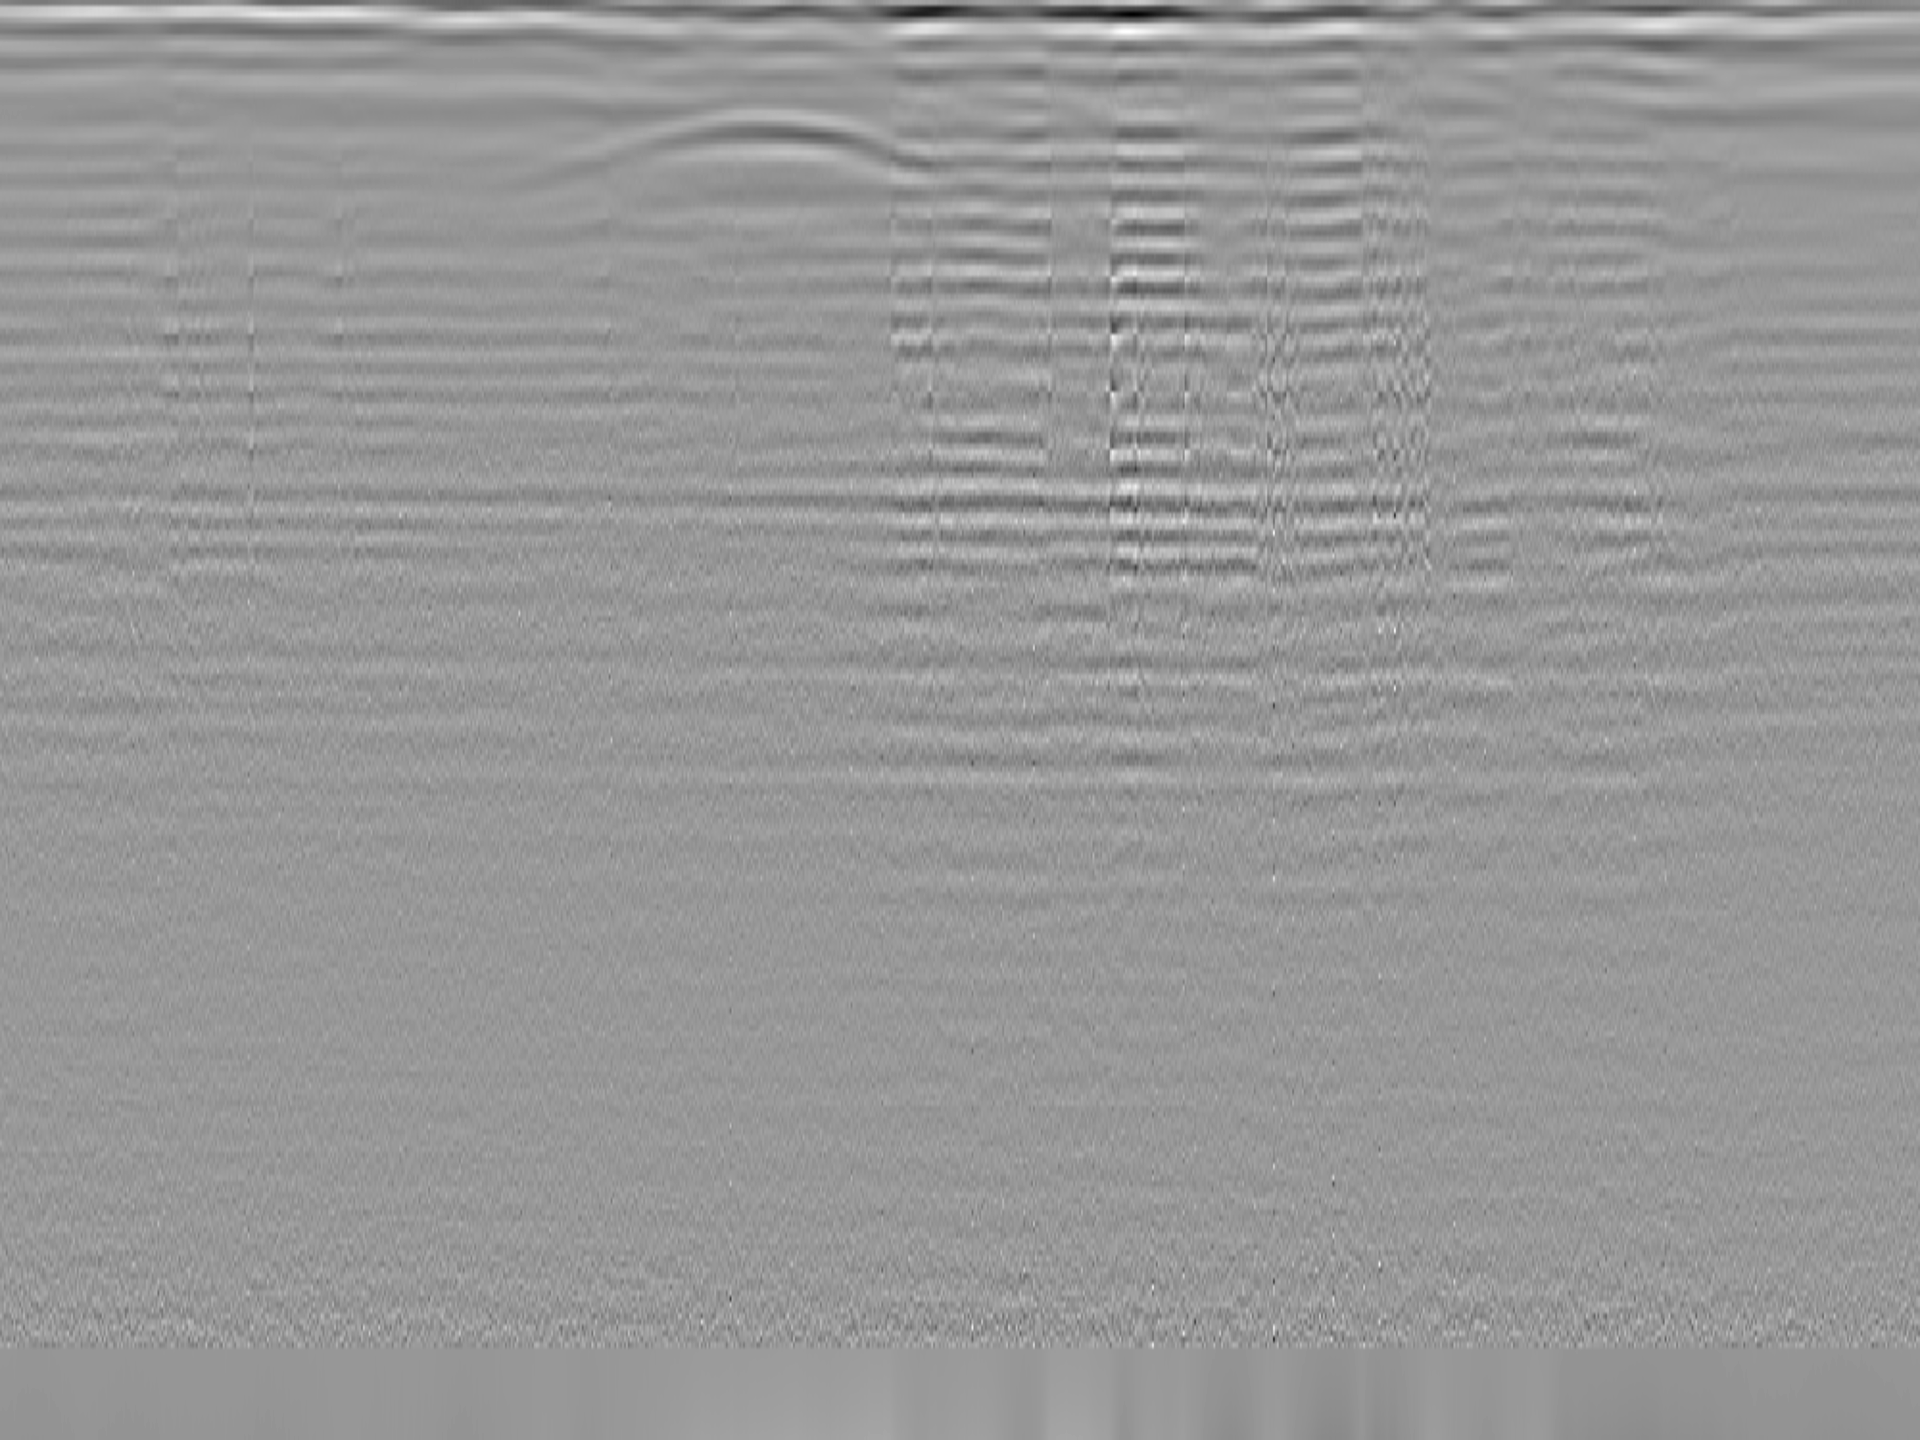Tunnel: (520, 109, 948, 191)
